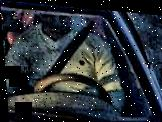seatbelt: (42, 16, 96, 74)
